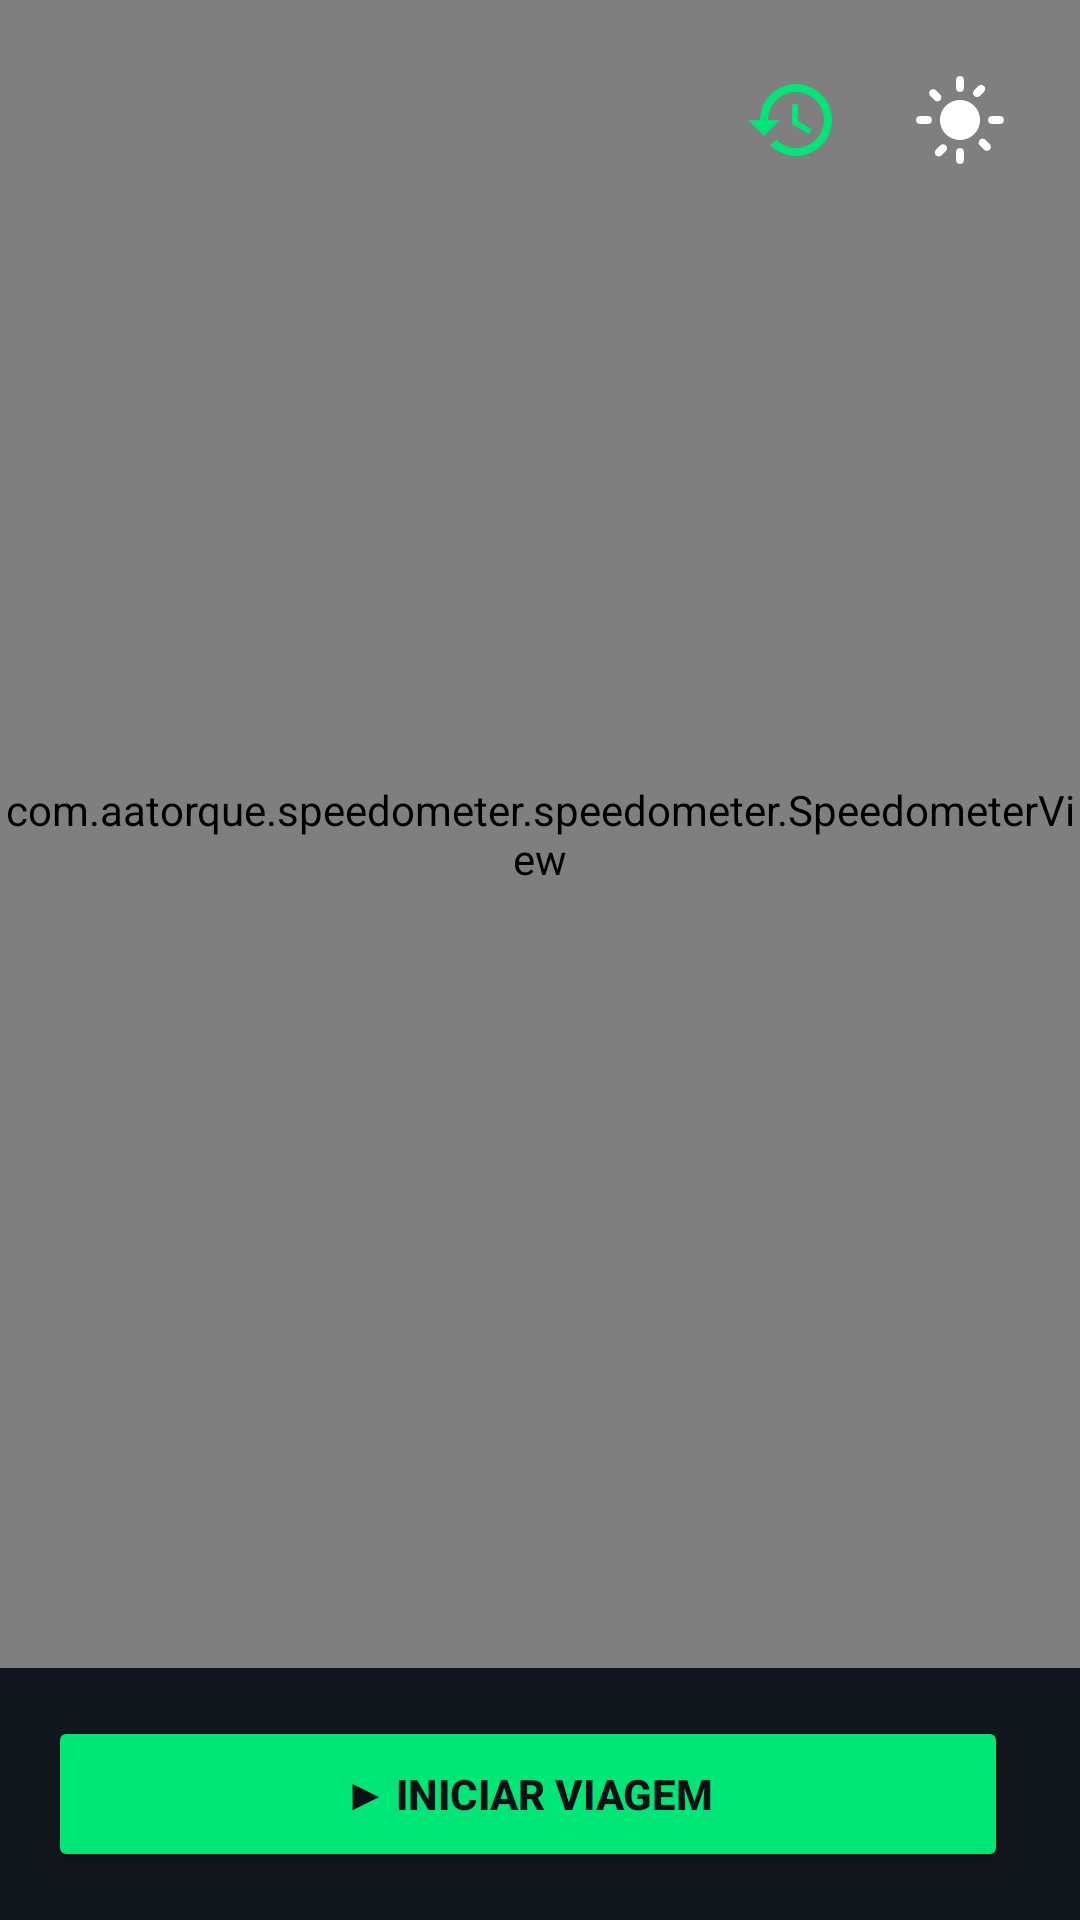

Point at icon controls on the screen. Image size 1080×1920, points as (x,y).
Alternar Tema: (960,120)
Histórico de Viagens: (790,120)
